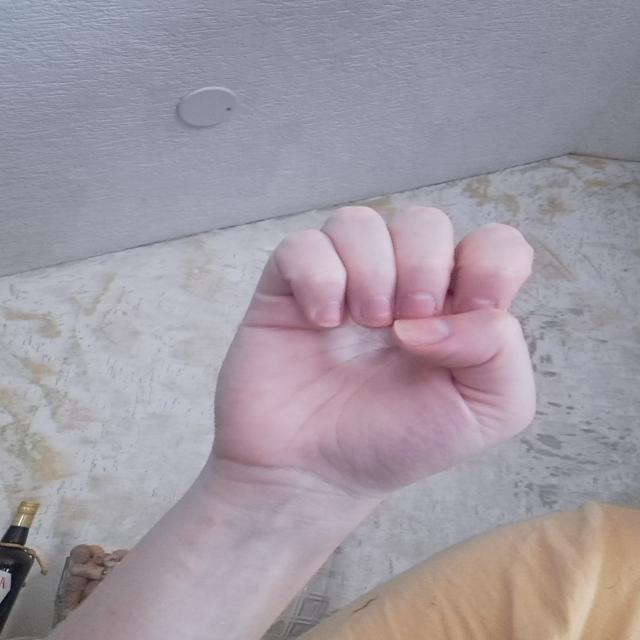E: (207, 204, 554, 496)
